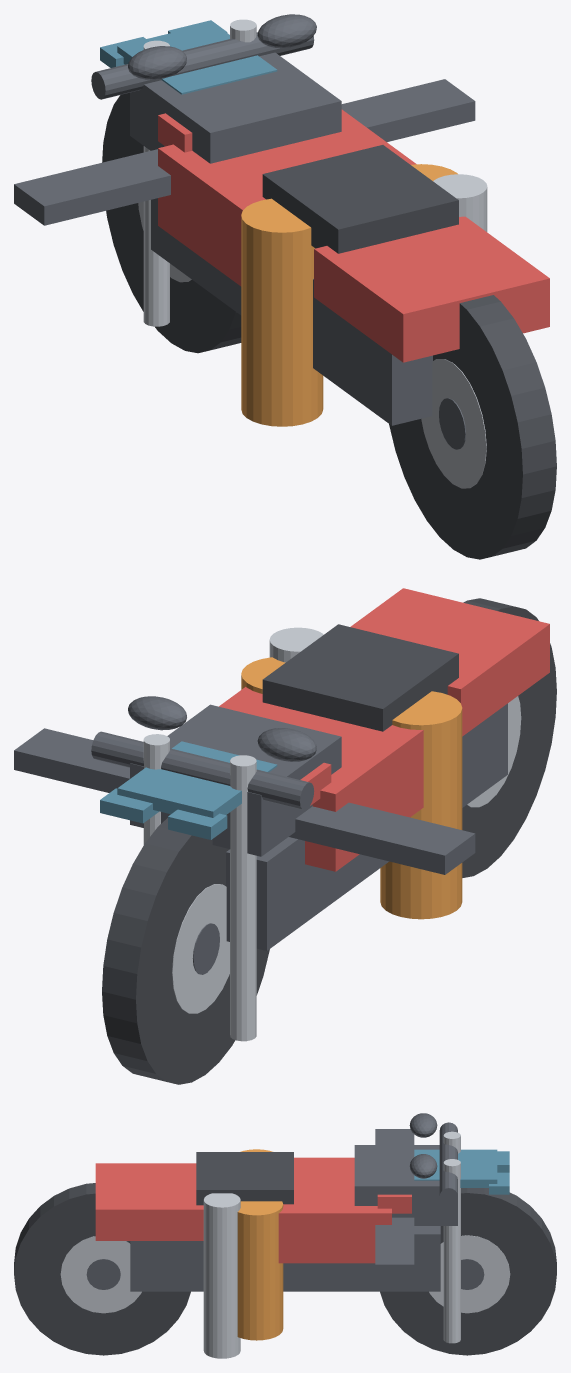
Rendered from bobs_bike.glb.
3 renders of one model, top to bottom at view 1: azimuth 30°, elevation 25°; view 2: azimuth 150°, elevation 25°; view 3: azimuth 270°, elevation 25°, orthographic. The views are drawn at different scales.
Parts seen in each view (by area): view 1: part_9, part_3, part_23, part_4, part_2, part_1, part_0, part_6, part_19, part_20, part_10, part_5 (+7 smaller); view 2: part_6, part_4, part_3, part_0, part_1, part_23, part_2, part_9, part_19, part_12, part_14, part_5 (+12 smaller); view 3: part_9, part_6, part_1, part_0, part_3, part_24, part_16, part_2, part_4, part_10, part_7, part_13 (+10 smaller).
Part boxes in pixels (x1=…): part_9: x1=389, y1=295, x2=556, y2=559; part_3: x1=314, y1=216, x2=549, y2=362; part_23: x1=241, y1=198, x2=323, y2=426; part_4: x1=262, y1=145, x2=458, y2=253; part_2: x1=130, y1=52, x2=341, y2=163; part_1: x1=158, y1=109, x2=416, y2=286; part_0: x1=151, y1=198, x2=432, y2=425; part_6: x1=102, y1=92, x2=241, y2=353; part_19: x1=14, y1=149, x2=170, y2=225; part_20: x1=341, y1=79, x2=475, y2=141; part_10: x1=421, y1=359, x2=486, y2=488; part_5: x1=117, y1=23, x2=277, y2=94; part_6: x1=102, y1=818, x2=269, y2=1084; part_4: x1=262, y1=624, x2=458, y2=731; part_3: x1=350, y1=588, x2=549, y2=736; part_0: x1=226, y1=703, x2=507, y2=950; part_1: x1=219, y1=687, x2=423, y2=871; part_23: x1=380, y1=691, x2=462, y2=919; part_2: x1=130, y1=704, x2=341, y2=856; part_9: x1=462, y1=598, x2=556, y2=877; part_19: x1=289, y1=802, x2=475, y2=874; part_12: x1=230, y1=755, x2=256, y2=1041; part_14: x1=91, y1=731, x2=314, y2=810; part_5: x1=117, y1=741, x2=277, y2=817; part_9: x1=14, y1=1183, x2=190, y2=1355; part_6: x1=380, y1=1188, x2=556, y2=1355; part_1: x1=278, y1=1157, x2=391, y2=1263; part_0: x1=130, y1=1226, x2=440, y2=1291; part_3: x1=95, y1=1163, x2=203, y2=1240; part_24: x1=237, y1=1201, x2=283, y2=1340; part_16: x1=203, y1=1193, x2=240, y2=1358; part_2: x1=354, y1=1145, x2=457, y2=1225; part_4: x1=196, y1=1152, x2=293, y2=1205; part_10: x1=60, y1=1236, x2=141, y2=1313; part_7: x1=429, y1=1235, x2=510, y2=1313; part_13: x1=443, y1=1159, x2=460, y2=1343.
Size of the model in its own units: 2.79 by 2.04 by 4.72.
